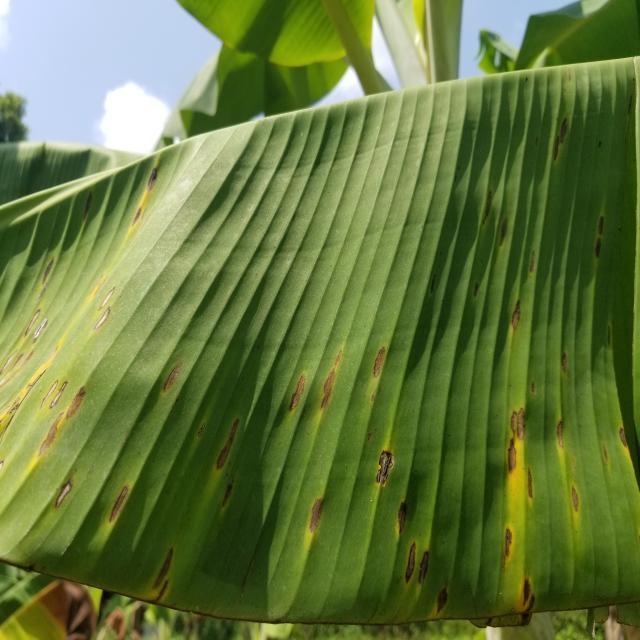Early_rust: (0, 136, 640, 637)
